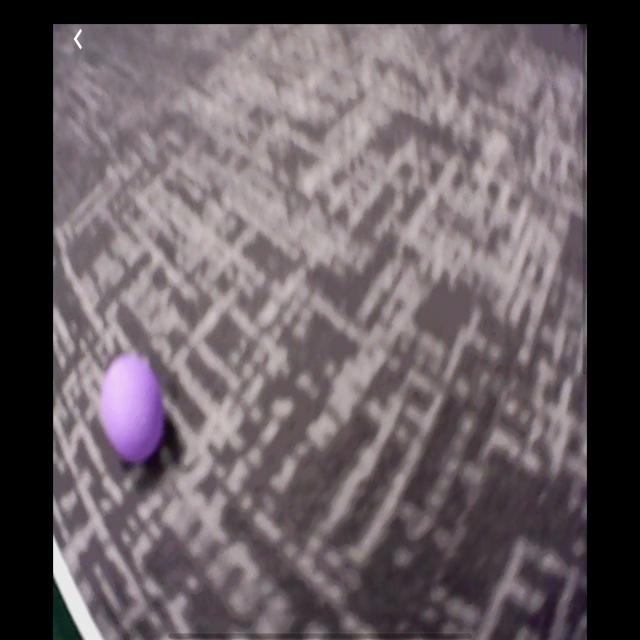ball: (101, 352, 167, 467)
